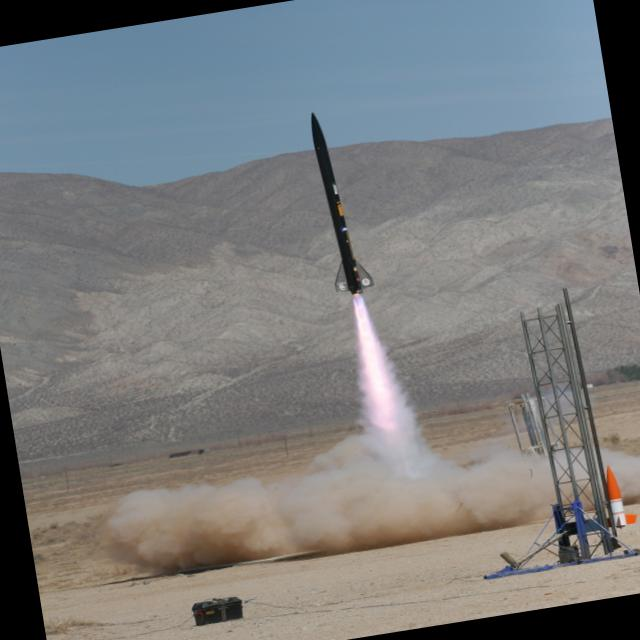rocket: (291, 98, 414, 421)
